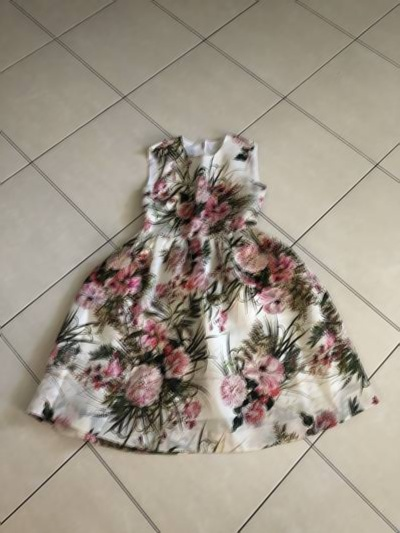Dress: (37, 113, 386, 462)
